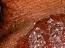plaque psoriasis: (15, 13, 65, 48)
